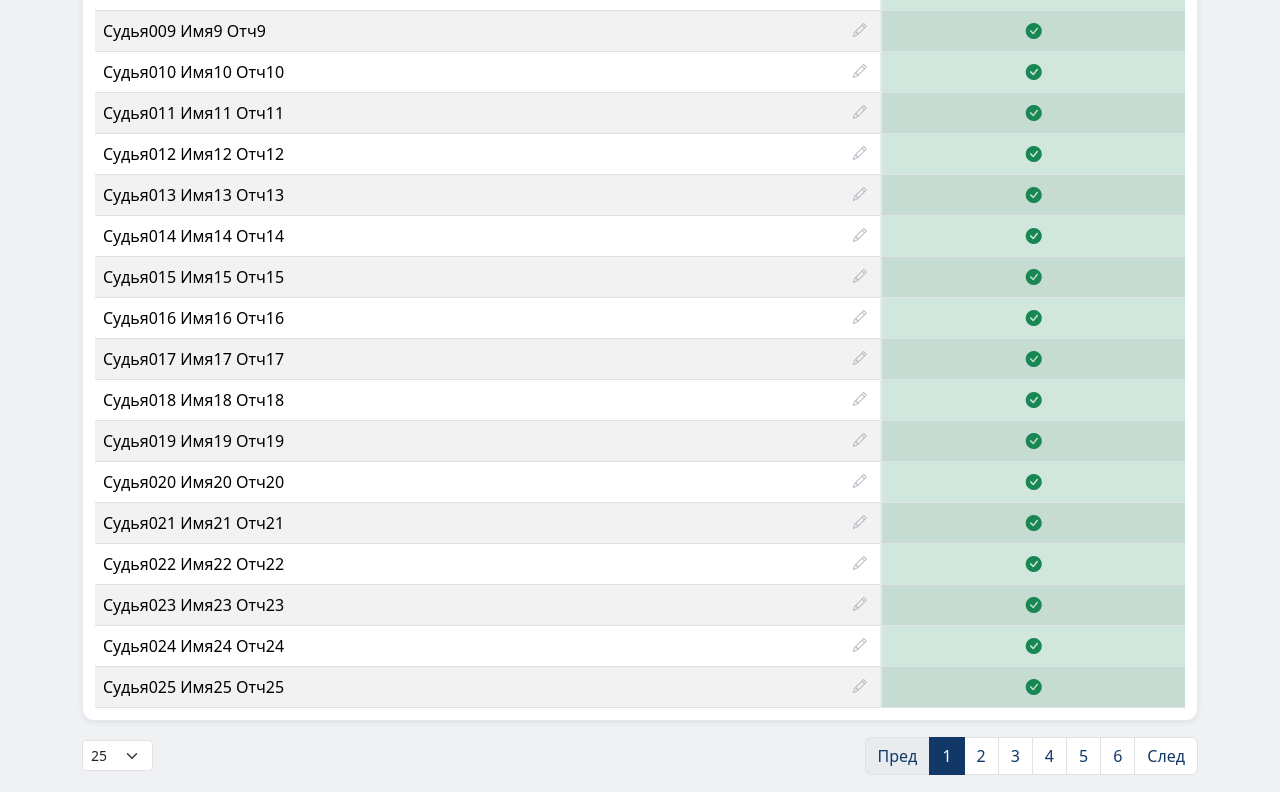
Test: AdminRefereeAvailability view › resets to first page on search and avoids false empty state
(page scrolled)
Click the button "2". click: (981, 756)
box: [964,737,999,775]
(page scrolled)
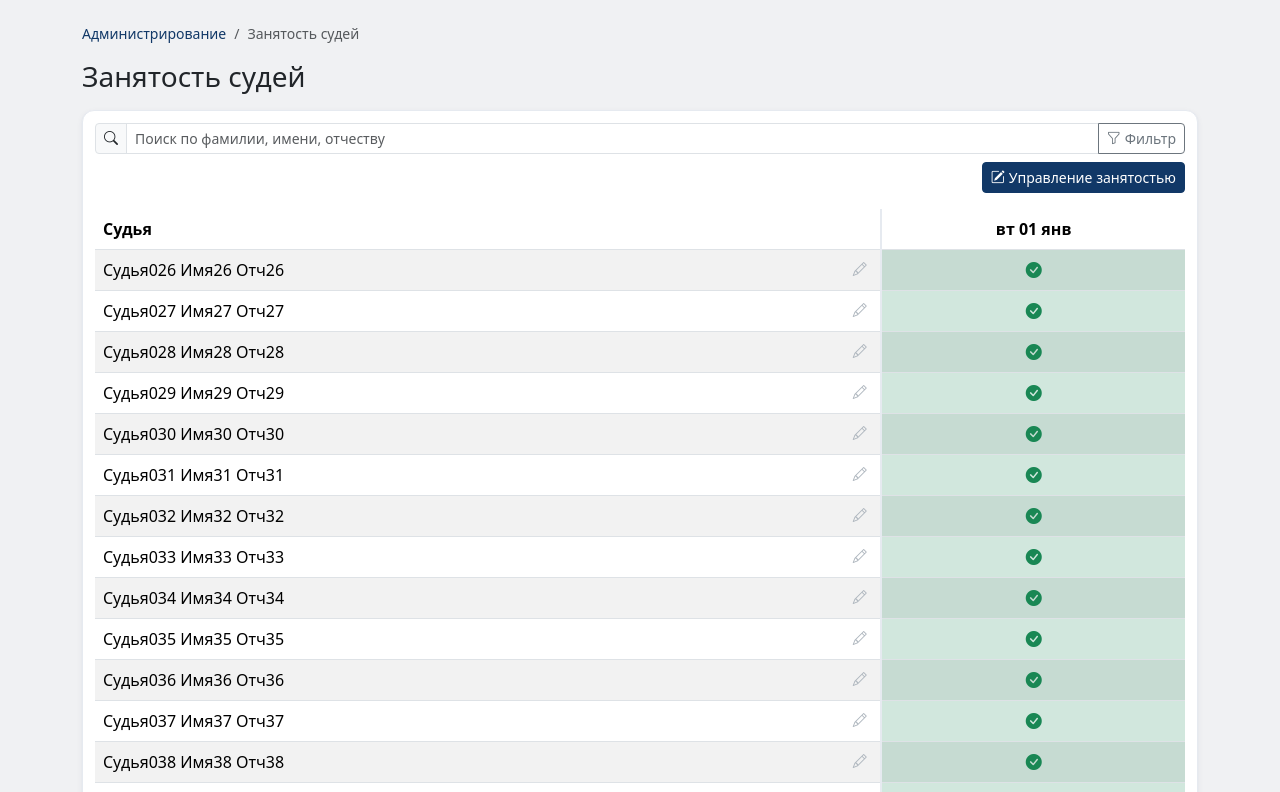
Check: the text "Судья026 Имя26 Отч26" is shown, box [103,259,284,281]
Type "Судья003" into the search field labelled "Поиск по фамилии, имени, отчеству". click: (612, 138)
box: [126,123,1099,154]
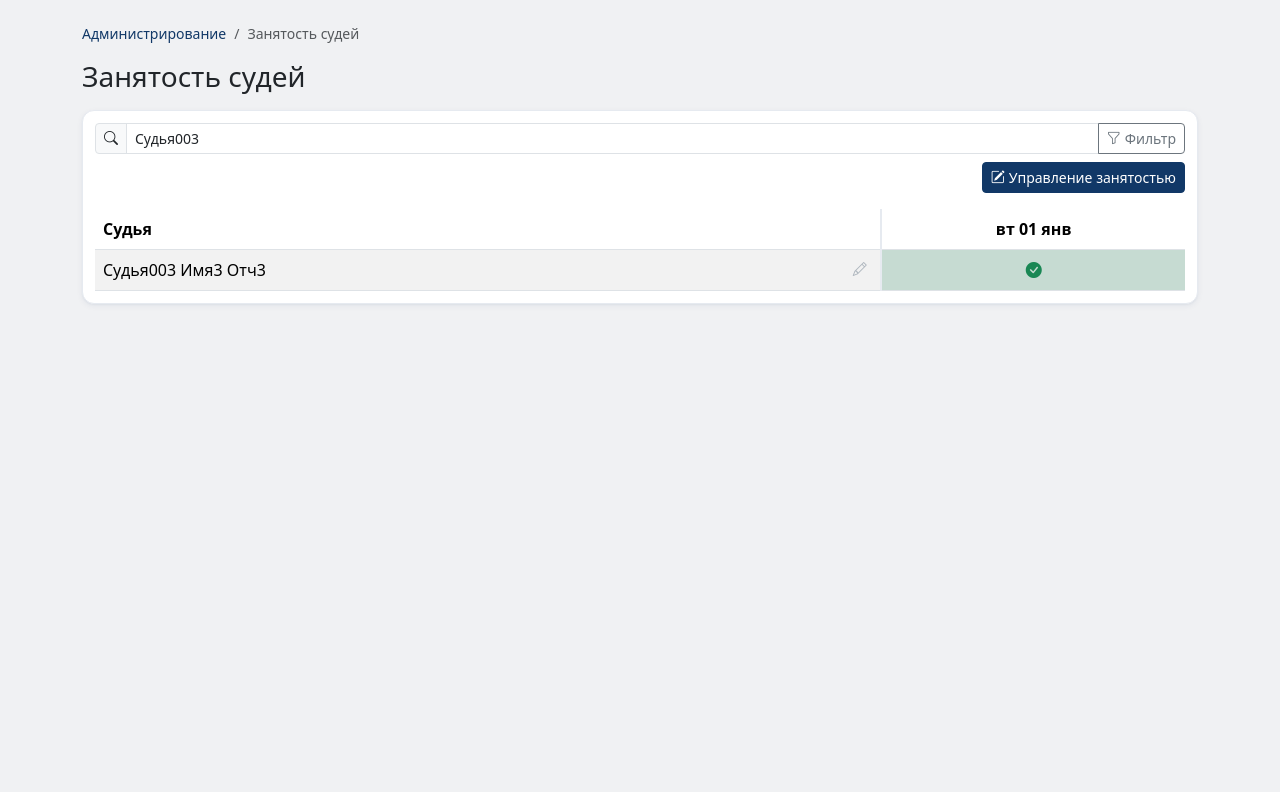
Check: the text "Судья003 Имя3 Отч3" is shown, box [103,259,266,281]
